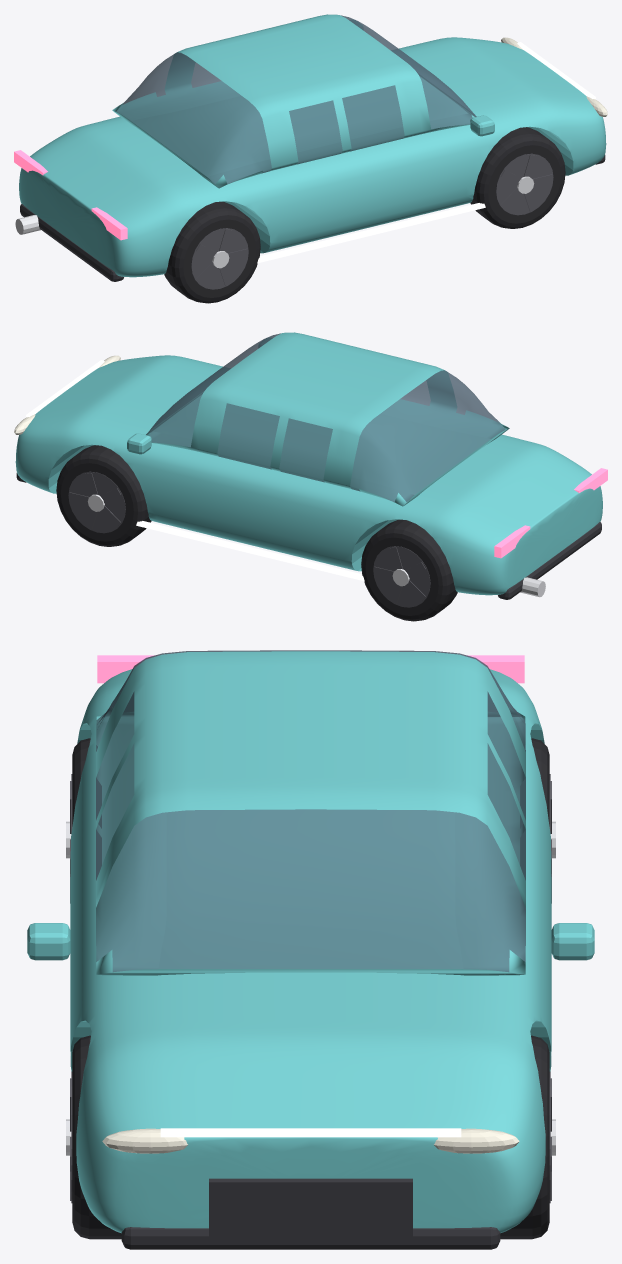
File: volt_cruiser.fbx
3 views of the same model, one above another, from view 1: azimuth 30°, elevation 25°; view 2: azimuth 150°, elevation 25°; view 3: azimuth 270°, elevation 25° (orthographic). The views are drawn at different scales.
Visible parts, largest first — view 1: Body.011, Glass.011, Tire.011, Rim.011, Neon.001, Trim.011, TailLight.011, Chrome.011; view 2: Body.011, Glass.011, Tire.011, Rim.011, Neon.001, Trim.011, TailLight.011, Chrome.011; view 3: Body.011, Glass.011, Trim.011, Tire.011, HeadLight.011, Neon.001, TailLight.011, Rim.011.
Part boxes in pixels (box(x1,y1,x2,y2)): Body.011: box(19, 14, 606, 277); Glass.011: box(116, 15, 476, 183); Tire.011: box(164, 127, 565, 303); Rim.011: box(191, 153, 553, 289); Neon.001: box(257, 42, 595, 263); Trim.011: box(20, 155, 605, 281); TailLight.011: box(14, 150, 127, 240); Chrome.011: box(15, 176, 534, 268); Body.011: box(15, 332, 602, 595); Glass.011: box(146, 333, 505, 501); Tire.011: box(56, 445, 457, 621); Rim.011: box(68, 471, 430, 607); Neon.001: box(26, 360, 364, 581); Trim.011: box(16, 473, 601, 599); TailLight.011: box(494, 468, 607, 558); Chrome.011: box(87, 494, 545, 597); Body.011: box(27, 651, 594, 1233); Glass.011: box(96, 650, 525, 971); Trim.011: box(121, 1178, 500, 1249); Tire.011: box(72, 738, 549, 1239); HeadLight.011: box(102, 1128, 519, 1153); Neon.001: box(160, 1128, 461, 1137); TailLight.011: box(97, 655, 524, 683); Rim.011: box(70, 774, 551, 1203).
Bounding box in the file's own units: 1510 × 480 × 724.
